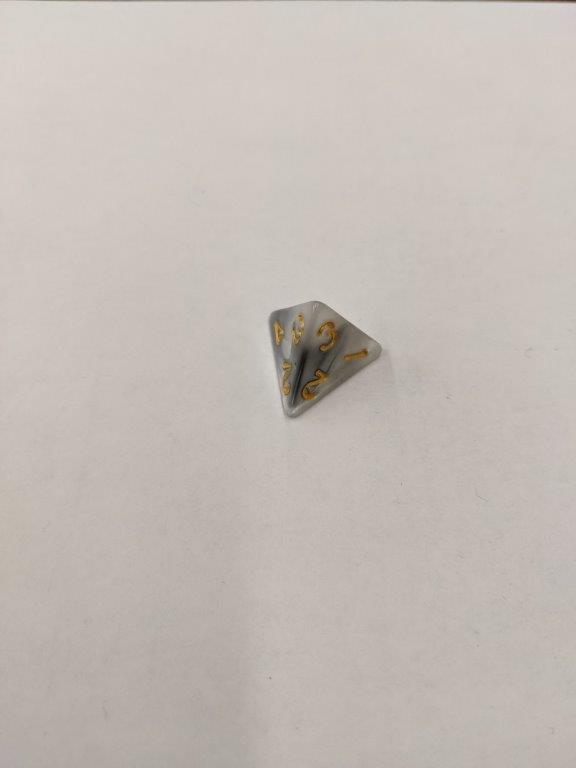d4-3: (266, 296, 386, 421)
